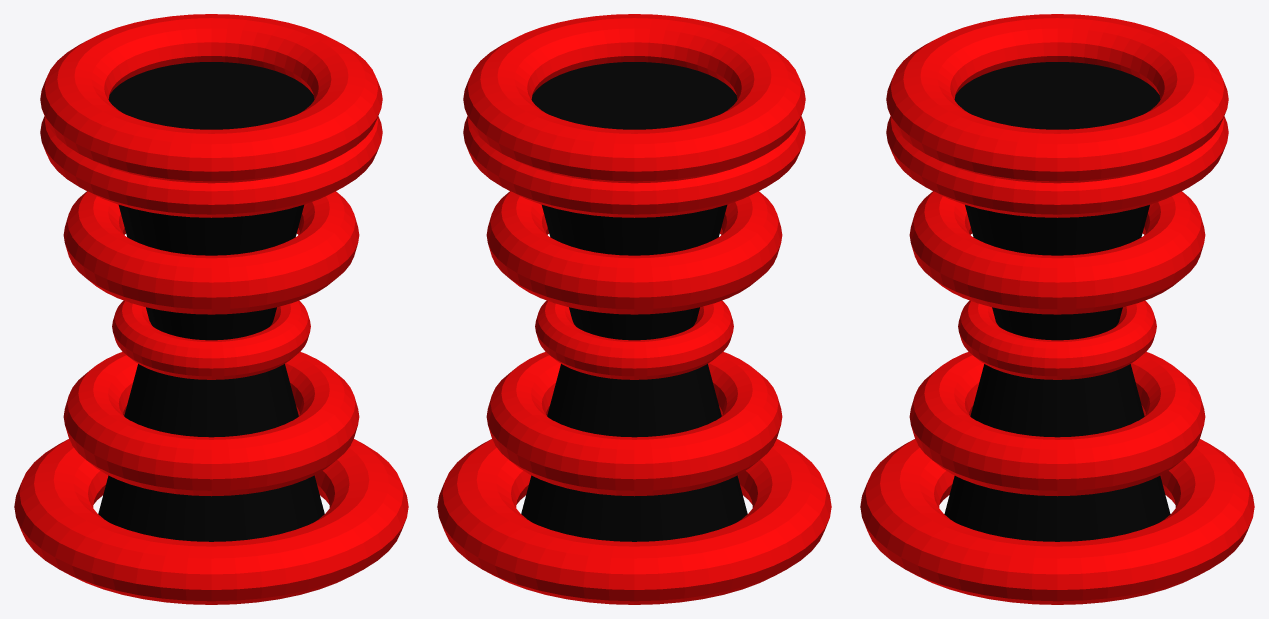
File: Piros torony.glb
The picture shows the model from 3 angles, left to right: view 1: azimuth 30°, elevation 25°; view 2: azimuth 150°, elevation 25°; view 3: azimuth 270°, elevation 25°; orthographic projection.
Parts seen in each view (by area): view 1: Torus.004; view 2: Torus.004; view 3: Torus.004.
Boxes of the visible parts, bbox=[...] form: Torus.004: bbox=[14, 14, 408, 604]; Torus.004: bbox=[437, 14, 831, 604]; Torus.004: bbox=[860, 14, 1254, 604].
Bounding box in the file's own units: 2.5 × 3.21 × 2.5.
